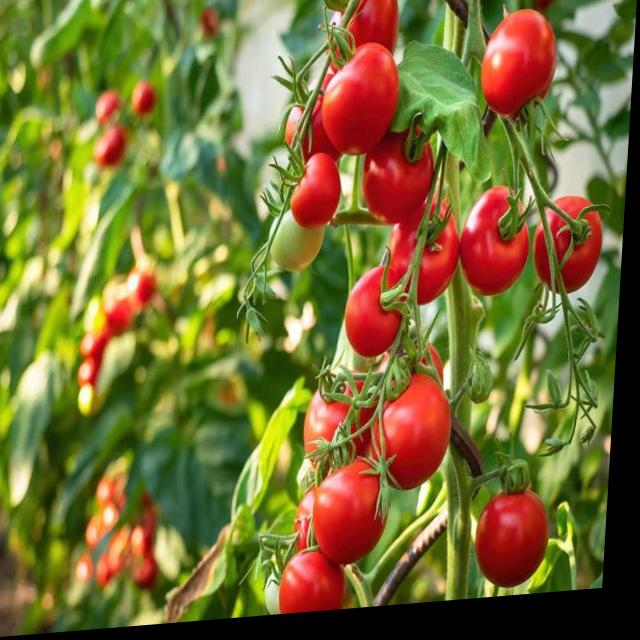kirmizi: (288, 462, 411, 620), (326, 26, 437, 198), (468, 224, 618, 345), (478, 28, 589, 173), (459, 511, 550, 597)
